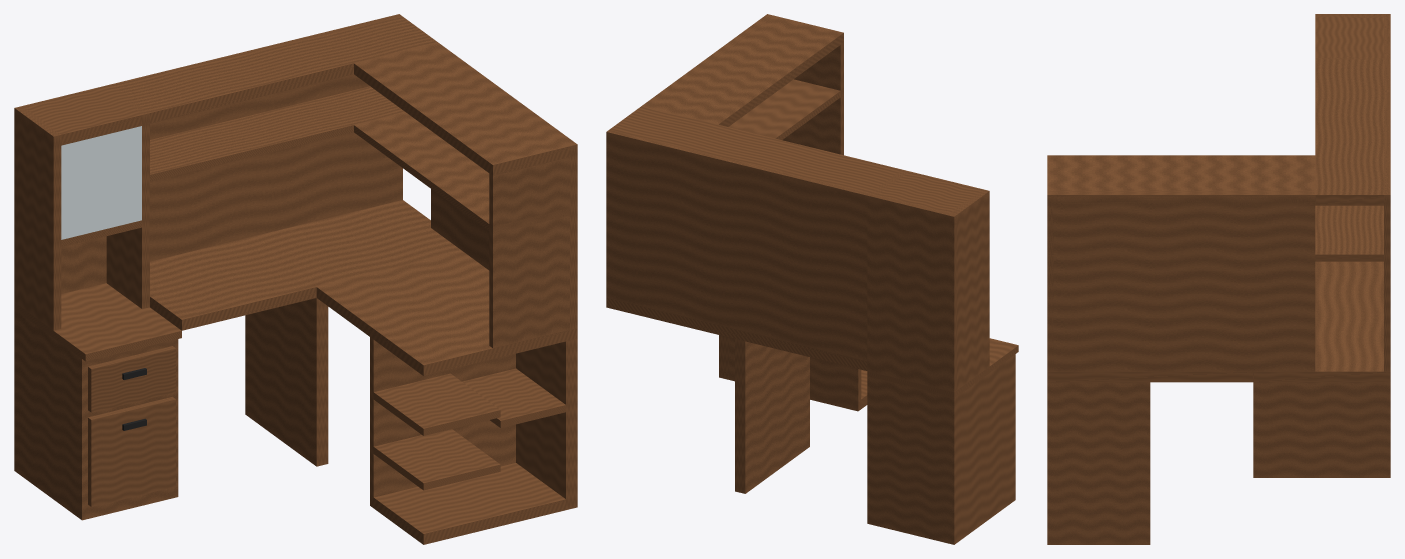
3 renders of one model, left to right at view 1: azimuth 30°, elevation 25°; view 2: azimuth 150°, elevation 25°; view 3: azimuth 270°, elevation 25°, orthographic. The views are drawn at different scales.
Visible parts, largest first — view 1: 22 back_hutch_panel, 7 main_desktop, 8 return_desktop, 1 drawer_cabinet_body, 28 right_hutch_front_side, 26 right_hutch_top, 23 back_hutch_top, 9 corner_support_panel, 24 back_hutch_shelf, 17 left_hutch_left_side, 12 right_shelf_bottom, 3 file_drawer_front (+13 smaller); view 2: 22 back_hutch_panel, 1 drawer_cabinet_body, 16 left_hutch_back, 26 right_hutch_top, 9 corner_support_panel, 23 back_hutch_top, 17 left_hutch_left_side, 27 right_hutch_shelf, 28 right_hutch_front_side, 19 left_hutch_top, 7 main_desktop, 11 right_shelf_unit_divider (+3 smaller); view 3: 25 right_hutch_panel, 10 right_shelf_unit_back, 9 corner_support_panel, 26 right_hutch_top, 23 back_hutch_top, 7 main_desktop, 24 back_hutch_shelf, 19 left_hutch_top, 8 return_desktop, 22 back_hutch_panel, 28 right_hutch_front_side.
Boxes of the visible parts, x1=… form: 22 back_hutch_panel: x1=123, y1=14, x2=402, y2=261; 7 main_desktop: x1=150, y1=200, x2=462, y2=330; 8 return_desktop: x1=316, y1=251, x2=577, y2=375; 1 drawer_cabinet_body: x1=14, y1=308, x2=178, y2=520; 28 right_hutch_front_side: x1=489, y1=156, x2=577, y2=348; 26 right_hutch_top: x1=354, y1=43, x2=577, y2=175; 23 back_hutch_top: x1=111, y1=14, x2=437, y2=123; 9 corner_support_panel: x1=245, y1=298, x2=328, y2=466; 24 back_hutch_shelf: x1=150, y1=86, x2=405, y2=181; 17 left_hutch_left_side: x1=18, y1=108, x2=61, y2=330; 12 right_shelf_bottom: x1=370, y1=463, x2=576, y2=544; 3 file_drawer_front: x1=88, y1=397, x2=175, y2=506; 22 back_hutch_panel: x1=606, y1=129, x2=869, y2=360; 1 drawer_cabinet_body: x1=867, y1=354, x2=1015, y2=544; 16 left_hutch_back: x1=867, y1=193, x2=957, y2=392; 26 right_hutch_top: x1=643, y1=14, x2=843, y2=126; 9 corner_support_panel: x1=735, y1=339, x2=809, y2=493; 23 back_hutch_top: x1=606, y1=106, x2=902, y2=202; 17 left_hutch_left_side: x1=951, y1=189, x2=989, y2=389; 27 right_hutch_shelf: x1=728, y1=79, x2=843, y2=139; 28 right_hutch_front_side: x1=782, y1=43, x2=843, y2=155; 19 left_hutch_top: x1=867, y1=170, x2=989, y2=226; 7 main_desktop: x1=606, y1=297, x2=867, y2=370; 11 right_shelf_unit_divider: x1=729, y1=337, x2=861, y2=411; 25 right_hutch_panel: x1=1047, y1=191, x2=1315, y2=371; 10 right_shelf_unit_back: x1=1047, y1=382, x2=1150, y2=544; 9 corner_support_panel: x1=1253, y1=382, x2=1390, y2=477; 26 right_hutch_top: x1=1047, y1=155, x2=1315, y2=205; 23 back_hutch_top: x1=1315, y1=59, x2=1390, y2=205; 7 main_desktop: x1=1253, y1=261, x2=1390, y2=382; 24 back_hutch_shelf: x1=1315, y1=205, x2=1383, y2=261; 19 left_hutch_top: x1=1315, y1=14, x2=1390, y2=59; 8 return_desktop: x1=1047, y1=371, x2=1253, y2=382; 22 back_hutch_panel: x1=1384, y1=59, x2=1390, y2=371; 28 right_hutch_front_side: x1=1047, y1=205, x2=1053, y2=371.
Bounding box in the file's own units: 1.11 × 1 × 0.89.
Materials: 3 (1 with a texture image).
